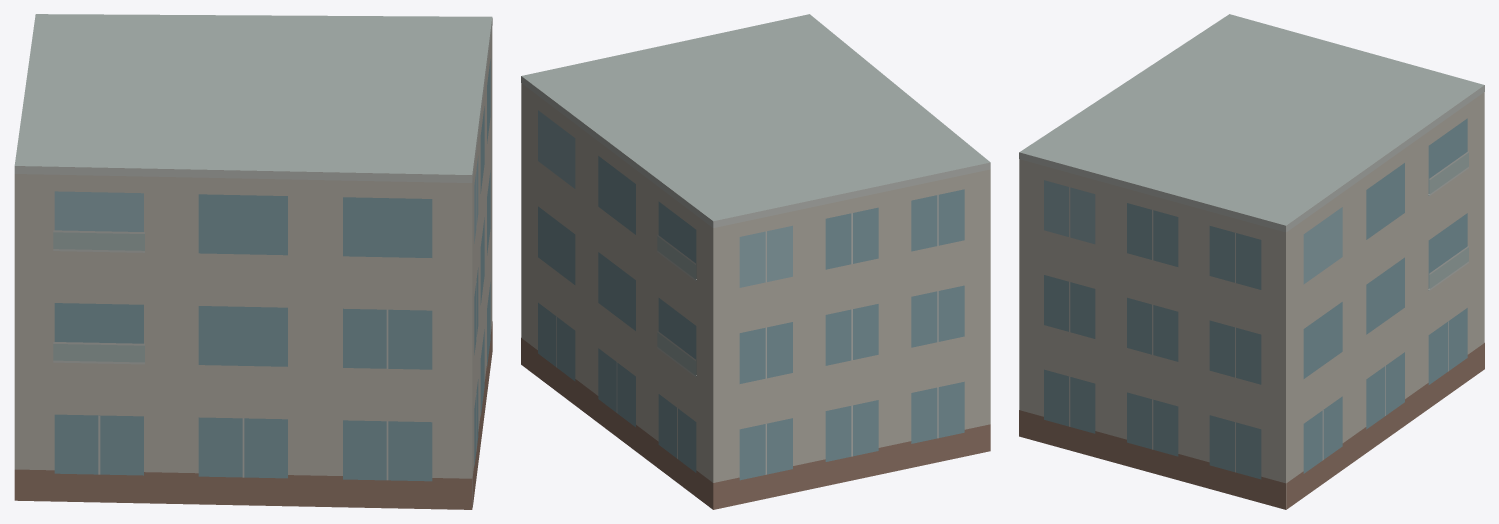
Rendered from survey-upis-32607587.glb.
3 views of the same model, side by side, from view 1: azimuth 30°, elevation 25°; view 2: azimuth 150°, elevation 25°; view 3: azimuth 270°, elevation 25° (orthographic). The views are drawn at different scales.
Visible parts, largest first — view 1: survey-upis-32607587.tmp; view 2: survey-upis-32607587.tmp; view 3: survey-upis-32607587.tmp.
Part boxes in pixels (x1,y1,x2,y2): survey-upis-32607587.tmp: (14, 14, 492, 509); survey-upis-32607587.tmp: (521, 14, 990, 509); survey-upis-32607587.tmp: (1019, 14, 1484, 509).
Size of the model in its own units: 16.31 by 10.2 by 15.16.
